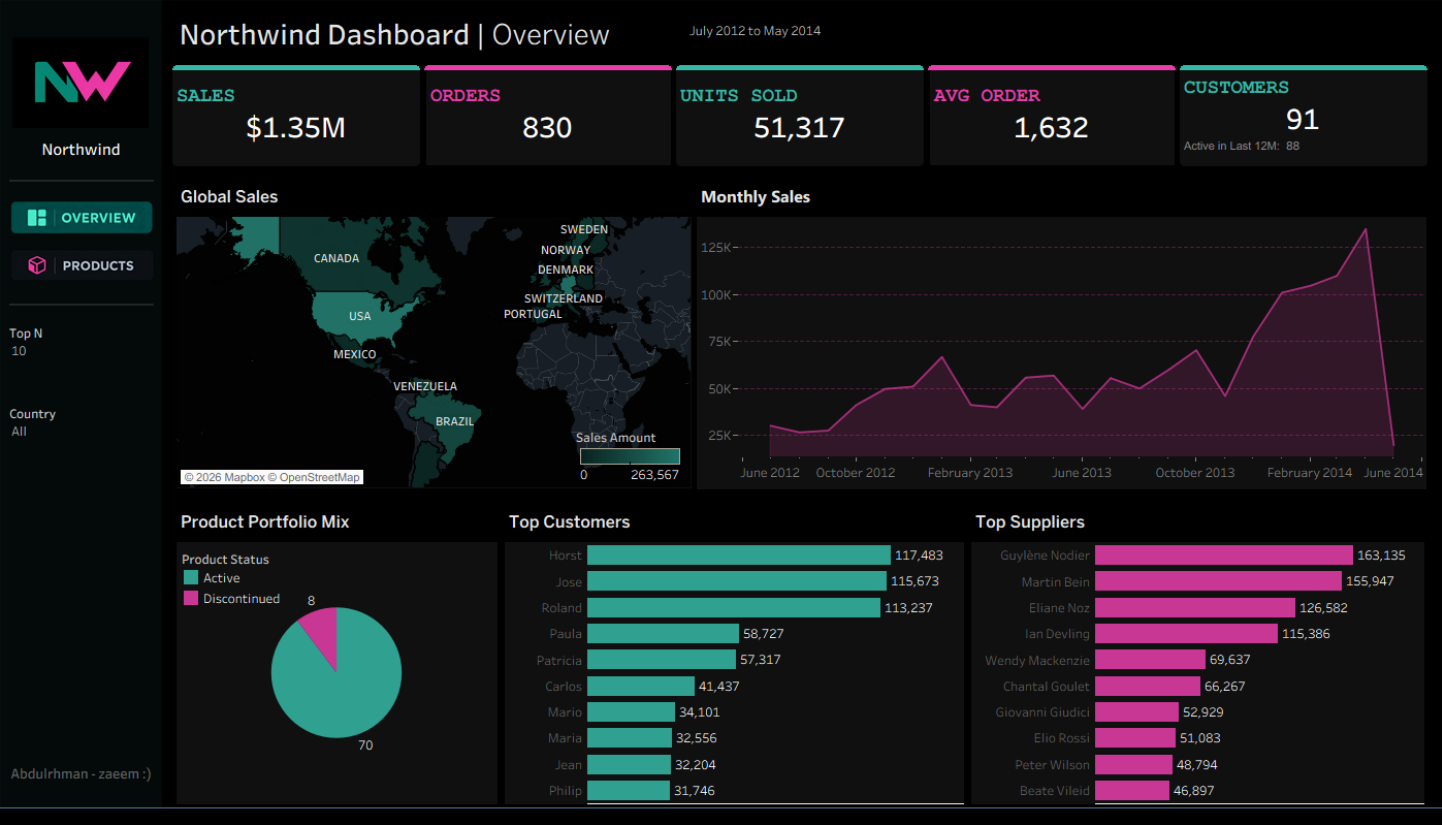

This screenshot's page, from the dashboard's own definition file:
{"tool":"tableau","page":{"name":"OVERVIEW","canvas":[1400,800],"ordinal":0},"visuals":[{"type":"blank","box":[168,1,1216,10]},{"type":"text","box":[168,11,656,45]},{"type":"blank","box":[824,11,560,45]},{"type":"filter","title":"MONTHLY SALES","param":"[federated.13eqwf01oscyyw1924quf17f3vqo].[tmn:OrderDate:qk]","box":[666,22,725,25]},{"type":"image","param":"Image/Neon Teal and Magenta NW Logo.png","box":[1,33,157,96]},{"type":"worksheet","title":"TOTAL SALES","mark":"Automatic","box":[168,64,240,98]},{"type":"blank","box":[168,64,240,5]},{"type":"worksheet","title":"ORDERS","mark":"Automatic","box":[412,64,240,98]},{"type":"blank","box":[412,64,240,5]},{"type":"worksheet","title":"UNITS SOLD","mark":"Automatic","box":[656,64,240,98]},{"type":"blank","box":[656,64,240,5]},{"type":"worksheet","title":"AVG ORDER","mark":"Automatic","box":[900,64,240,98]},{"type":"blank","box":[900,64,240,5]},{"type":"worksheet","title":"CUSTOMERS","mark":"Automatic","box":[1144,64,240,98]},{"type":"blank","box":[1144,64,240,5]},{"type":"text","box":[1,129,157,32]},{"type":"blank","box":[1,161,157,576]},{"type":"worksheet","title":"Global Sales","mark":"Multipolygon","box":[168,172,506,305]},{"type":"worksheet","title":"MONTHLY SALES","mark":"Line","rows":["Calculation_2169672297005056","Calculation_2169672297005056"],"cols":["OrderDate"],"box":[674,172,710,305]},{"type":"blank","box":[10,175,140,2]},{"type":"dashboard-object","box":[10,195,139,33]},{"type":"dashboard-object","box":[10,242,140,33]},{"type":"blank","box":[10,295,140,2]},{"type":"parameter","param":"[Parameters].[Parameter 0752676996694016]","box":[10,314,138,75]},{"type":"filter","title":"Global Sales","param":"[federated.13eqwf01oscyyw1924quf17f3vqo].[none:Country:nk]","box":[10,392,140,40]},{"type":"legend","title":"Global Sales","param":"[federated.13eqwf01oscyyw1924quf17f3vqo].[sum:Calculation_2169672297005056:qk]","box":[559,412,105,55]},{"type":"worksheet","title":"Product Portfolio Mix","mark":"Pie","box":[168,487,318,296]},{"type":"worksheet","title":"Top Customers","mark":"Automatic","rows":["FirstName"],"cols":["Calculation_2169672297005056"],"box":[486,487,452,296]},{"type":"worksheet","title":"Top Suppliers","mark":"Automatic","rows":["ContactName"],"cols":["Calculation_2169672297005056"],"box":[938,487,446,296]},{"type":"legend","title":"Product Portfolio Mix","param":"[federated.13eqwf01oscyyw1924quf17f3vqo].[none:Calculation_2169672297103362:nk]","box":[176,532,140,58]},{"type":"text","box":[1,737,157,26]},{"type":"blank","box":[1,763,157,20]},{"type":"blank","box":[0,768,1400,32]}]}

Visuals, with their boxes on the page's 1400x800 design canvas (x1, y1, x2, y2). These are canvas units, not pixel positions in the 1442x825 screenshot, which may show the page scaled, cropped or inside an application window:
blank: region(168, 1, 1384, 11)
text: region(168, 11, 824, 56)
blank: region(824, 11, 1384, 56)
"MONTHLY SALES" filter: region(666, 22, 1391, 47)
image: region(1, 33, 158, 129)
"TOTAL SALES" worksheet: region(168, 64, 408, 162)
blank: region(168, 64, 408, 69)
"ORDERS" worksheet: region(412, 64, 652, 162)
blank: region(412, 64, 652, 69)
"UNITS SOLD" worksheet: region(656, 64, 896, 162)
blank: region(656, 64, 896, 69)
"AVG ORDER" worksheet: region(900, 64, 1140, 162)
blank: region(900, 64, 1140, 69)
"CUSTOMERS" worksheet: region(1144, 64, 1384, 162)
blank: region(1144, 64, 1384, 69)
text: region(1, 129, 158, 161)
blank: region(1, 161, 158, 737)
"Global Sales" worksheet (Multipolygon marks): region(168, 172, 674, 477)
"MONTHLY SALES" worksheet (Line marks): region(674, 172, 1384, 477)
blank: region(10, 175, 150, 177)
dashboard-object: region(10, 195, 149, 228)
dashboard-object: region(10, 242, 150, 275)
blank: region(10, 295, 150, 297)
parameter: region(10, 314, 148, 389)
"Global Sales" filter: region(10, 392, 150, 432)
"Global Sales" legend: region(559, 412, 664, 467)
"Product Portfolio Mix" worksheet (Pie marks): region(168, 487, 486, 783)
"Top Customers" worksheet: region(486, 487, 938, 783)
"Top Suppliers" worksheet: region(938, 487, 1384, 783)
"Product Portfolio Mix" legend: region(176, 532, 316, 590)
text: region(1, 737, 158, 763)
blank: region(1, 763, 158, 783)
blank: region(0, 768, 1400, 800)
